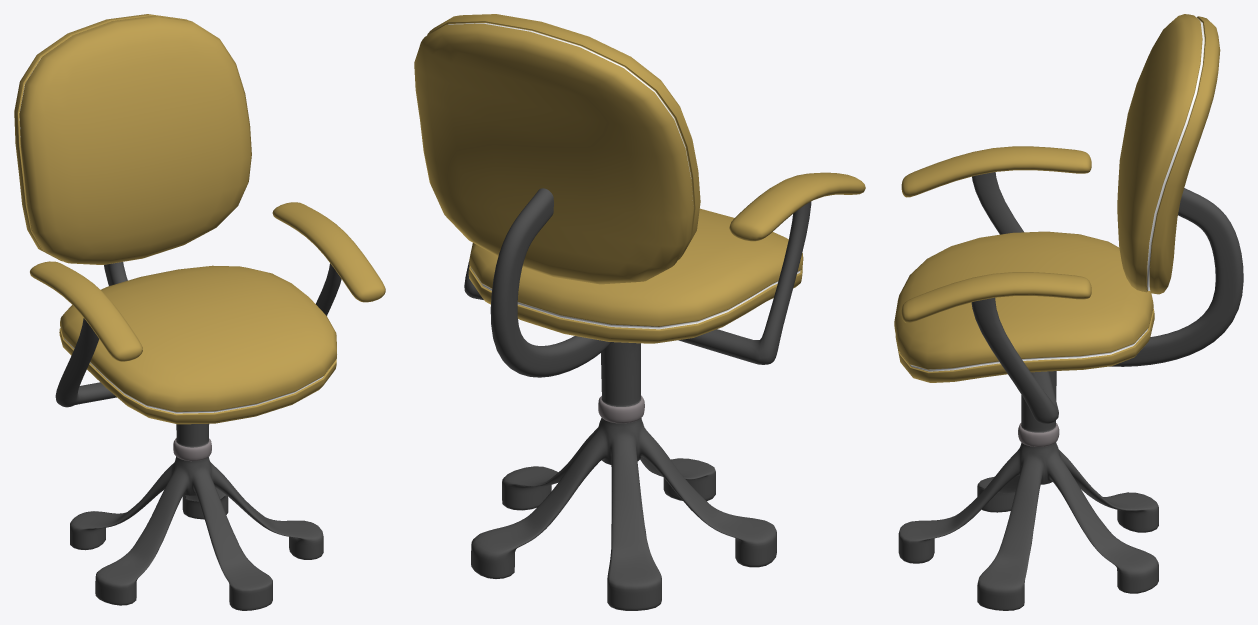
Rendered from roll_chair.glb.
The picture shows the model from 3 angles, left to right: view 1: azimuth 30°, elevation 25°; view 2: azimuth 150°, elevation 25°; view 3: azimuth 270°, elevation 25°; orthographic projection. The views are drawn at different scales.
Visible parts, largest first — view 1: chair_0; view 2: chair_0; view 3: chair_0.
Part boxes in pixels (x1=…): chair_0: x1=14, y1=14, x2=385, y2=610; chair_0: x1=414, y1=14, x2=865, y2=610; chair_0: x1=894, y1=14, x2=1243, y2=610.
Bounding box in the file's own units: 1.15 × 1.95 × 1.2.
